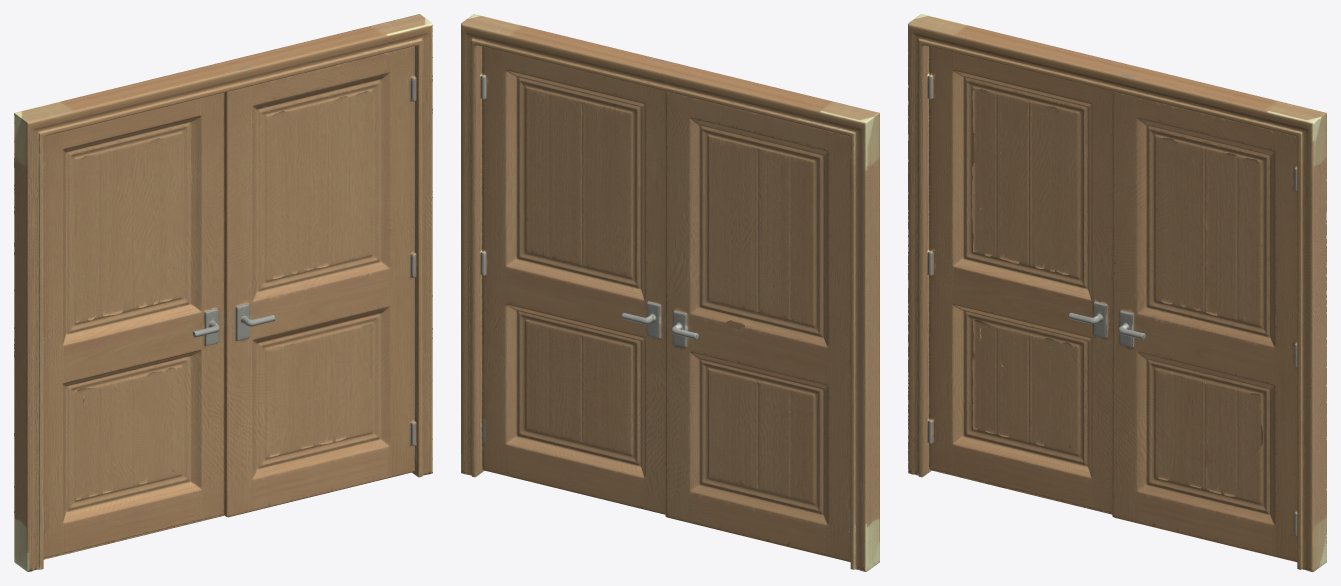
File: wood double door.glb
3 views of the same model, side by side, from view 1: azimuth 30°, elevation 25°; view 2: azimuth 150°, elevation 25°; view 3: azimuth 330°, elevation 25° (orthographic).
Parts seen in each view (by area): view 1: Mesh_0; view 2: Mesh_0; view 3: Mesh_0.
Part boxes in pixels (<box>): Mesh_0: <box>14,14,432,571</box>; Mesh_0: <box>461,14,879,571</box>; Mesh_0: <box>908,14,1326,571</box>.
Size of the model in its own units: 1.89 by 2 by 0.2183.
1 material, 1 textured.
